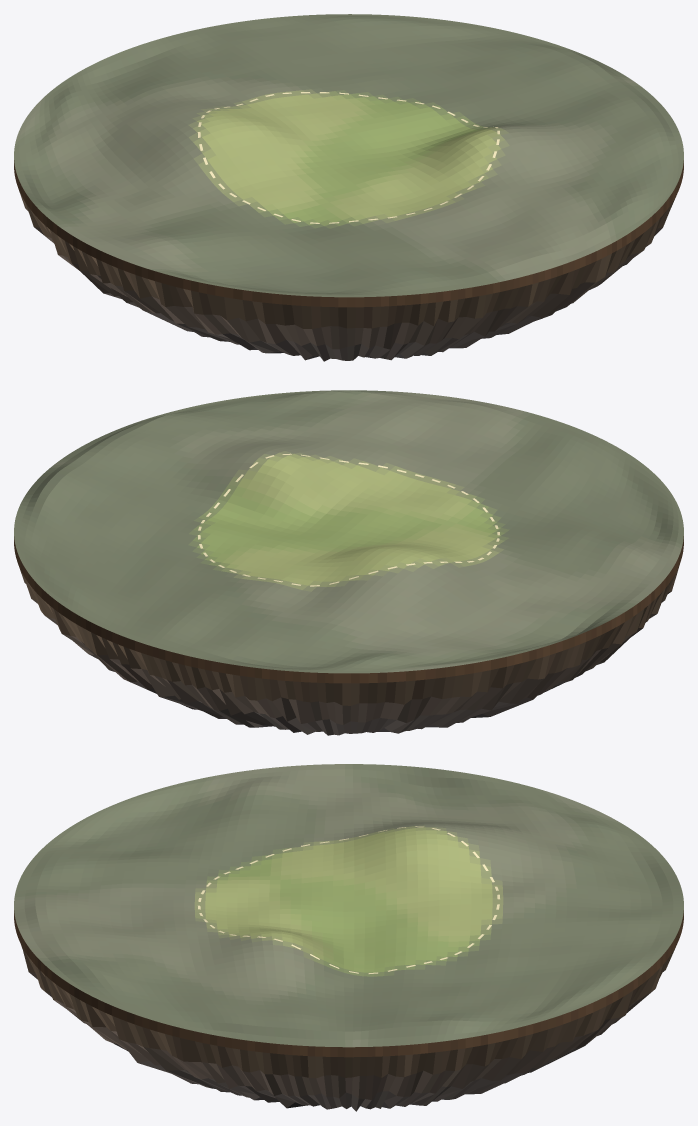
The model's file is rolling_hills.glb.
3 renders of one model, top to bottom at view 1: azimuth 30°, elevation 25°; view 2: azimuth 150°, elevation 25°; view 3: azimuth 270°, elevation 25°, orthographic.
Parts seen in each view (by area): view 1: TER_Surface, TER_Rock, TER_UnlockBorder; view 2: TER_Surface, TER_Rock, TER_UnlockBorder; view 3: TER_Surface, TER_Rock, TER_UnlockBorder.
Part boxes in pixels (bbox=[...]): TER_Surface: bbox=[14, 14, 683, 297]; TER_Rock: bbox=[14, 160, 683, 361]; TER_UnlockBorder: bbox=[197, 92, 499, 223]; TER_Surface: bbox=[14, 390, 683, 673]; TER_Rock: bbox=[14, 536, 683, 735]; TER_UnlockBorder: bbox=[198, 453, 499, 586]; TER_Surface: bbox=[14, 764, 683, 1047]; TER_Rock: bbox=[14, 910, 683, 1111]; TER_UnlockBorder: bbox=[198, 826, 499, 973].
Size of the model in its own units: 15.2 by 4.93 by 15.2.
